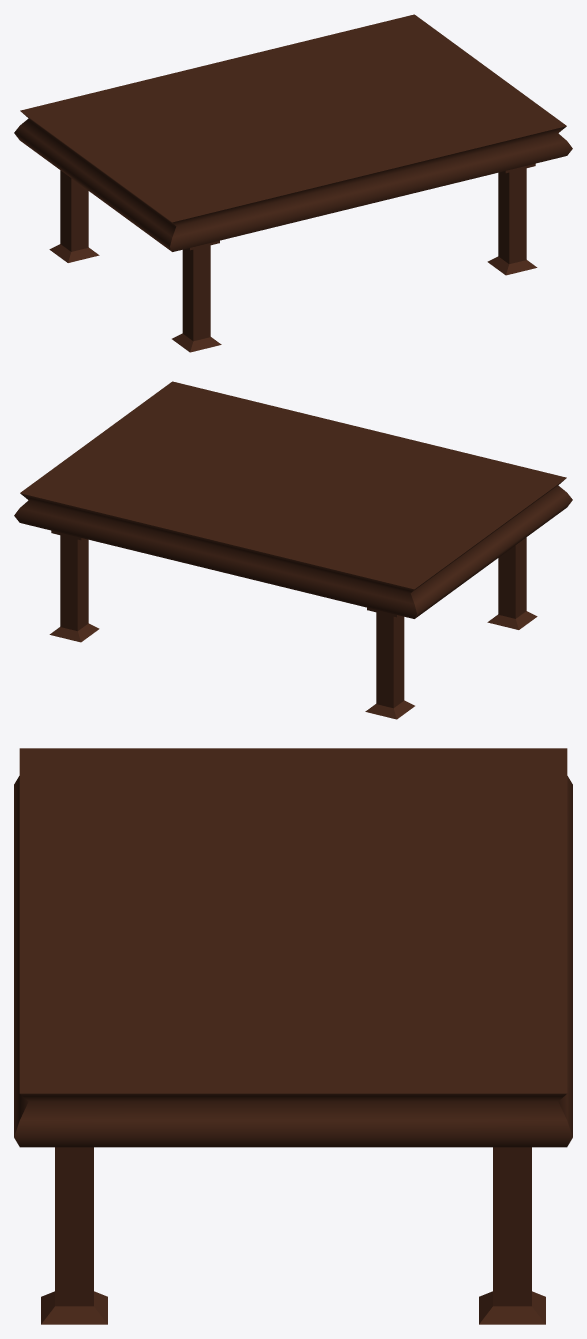
The model's file is gothic table.fbx.
3 renders of one model, top to bottom at view 1: azimuth 30°, elevation 25°; view 2: azimuth 150°, elevation 25°; view 3: azimuth 270°, elevation 25°, orthographic. The views are drawn at different scales.
Parts seen in each view (by area): view 1: pCube1; view 2: pCube1; view 3: pCube1.
Boxes of the visible parts, box(x1,y1,x2,y2) form: pCube1: box(14, 14, 572, 352); pCube1: box(14, 381, 572, 719); pCube1: box(14, 748, 572, 1324).
Size of the model in its own units: 9.63 by 3.2 by 6.45.
